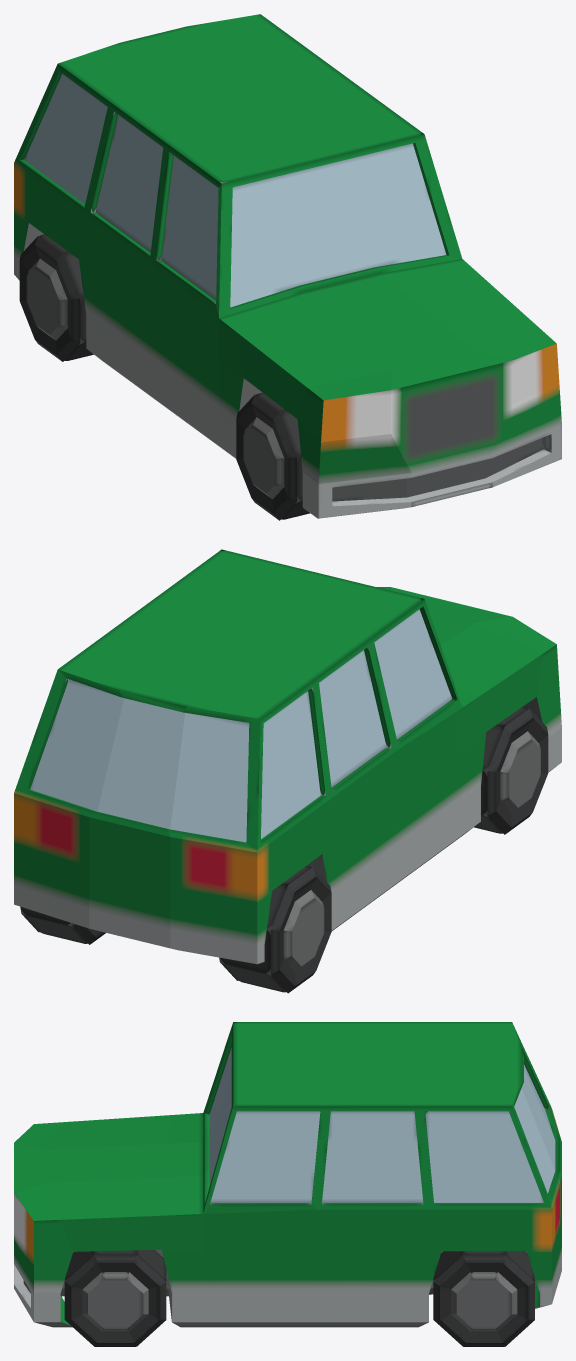
The model's file is Car 4.fbx.
3 renders of one model, top to bottom at view 1: azimuth 30°, elevation 25°; view 2: azimuth 150°, elevation 25°; view 3: azimuth 270°, elevation 25°, orthographic. The views are drawn at different scales.
Visible parts, largest first — view 1: cuboid, cylinder_2, cylinder_3; view 2: cuboid, cylinder_3, cylinder_2, cylinder_1; view 3: cuboid, cylinder, cylinder_1.
Part boxes in pixels (<box>): cuboid: <box>14,14,561,518</box>; cylinder_2: <box>236,392,309,520</box>; cylinder_3: <box>19,234,93,361</box>; cuboid: <box>14,549,561,964</box>; cylinder_3: <box>219,865,331,993</box>; cylinder_2: <box>474,706,548,834</box>; cylinder_1: <box>20,906,105,944</box>; cuboid: <box>14,1022,561,1327</box>; cylinder: <box>64,1250,166,1346</box>; cylinder_1: <box>433,1251,534,1346</box>.
Size of the model in its own units: 163 by 160 by 344.
Materials: 1 (1 with a texture image).
